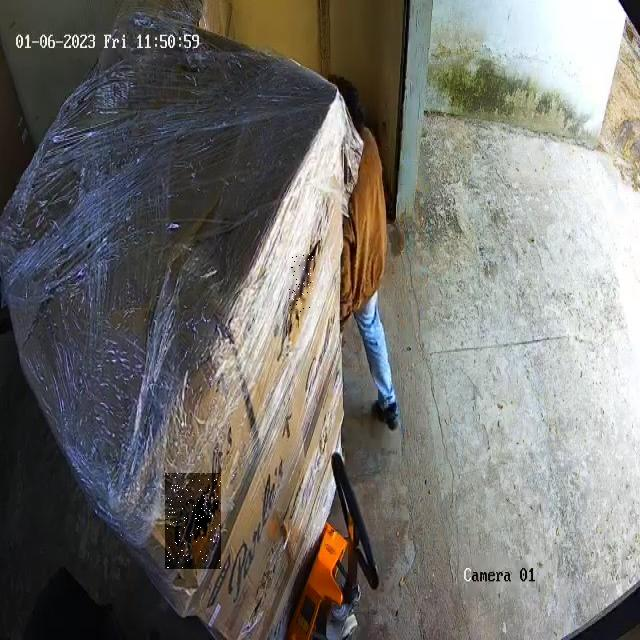leakage: (165, 474, 221, 568), (289, 255, 313, 313)
